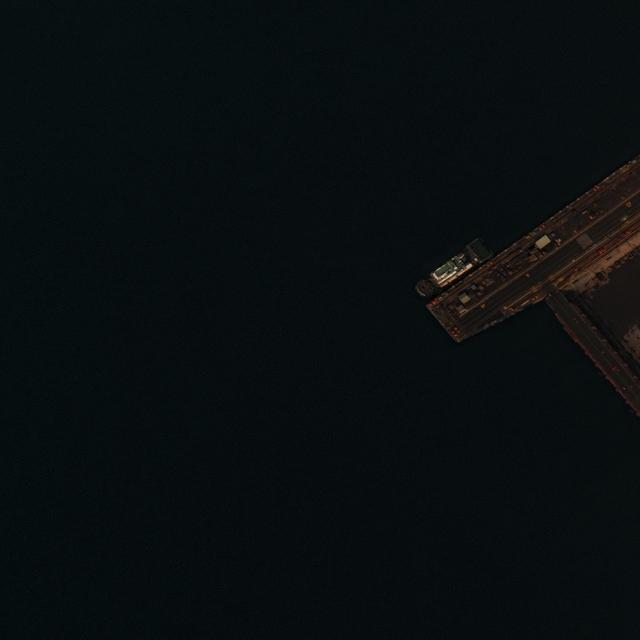Other Ship: (414, 238, 491, 303)
